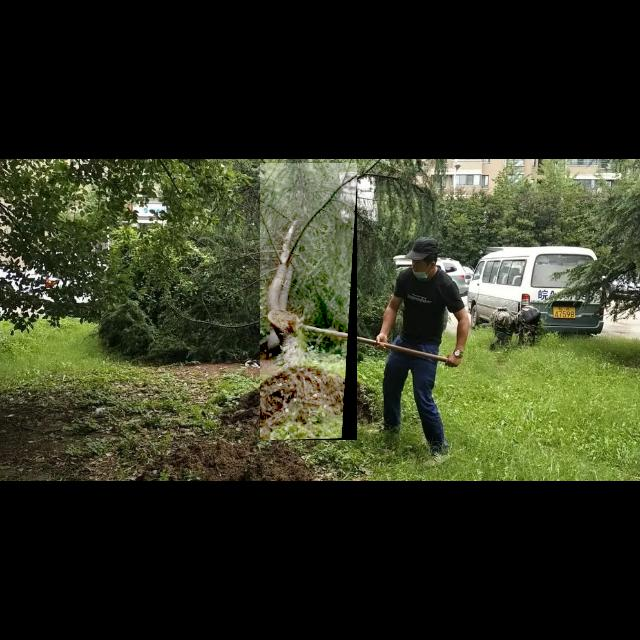Fallen Tree: (260, 163, 358, 441)
